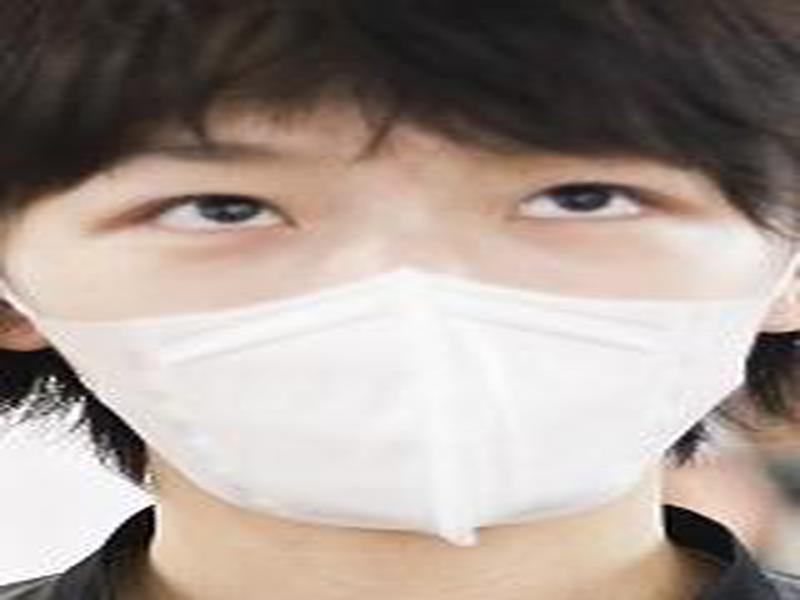with_mask: (1, 1, 794, 551)
